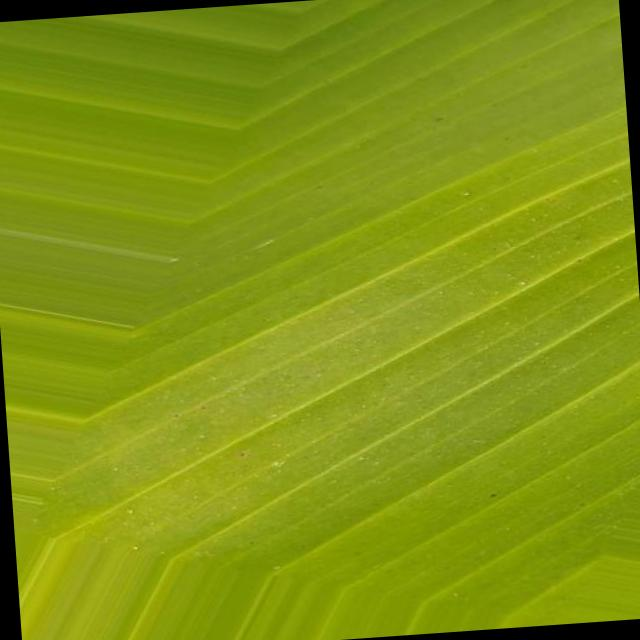Banana_Healthy: (111, 96, 519, 507)
